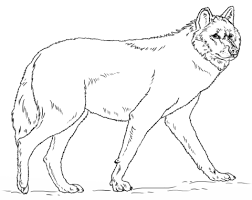Lobo: (10, 7, 245, 193)
